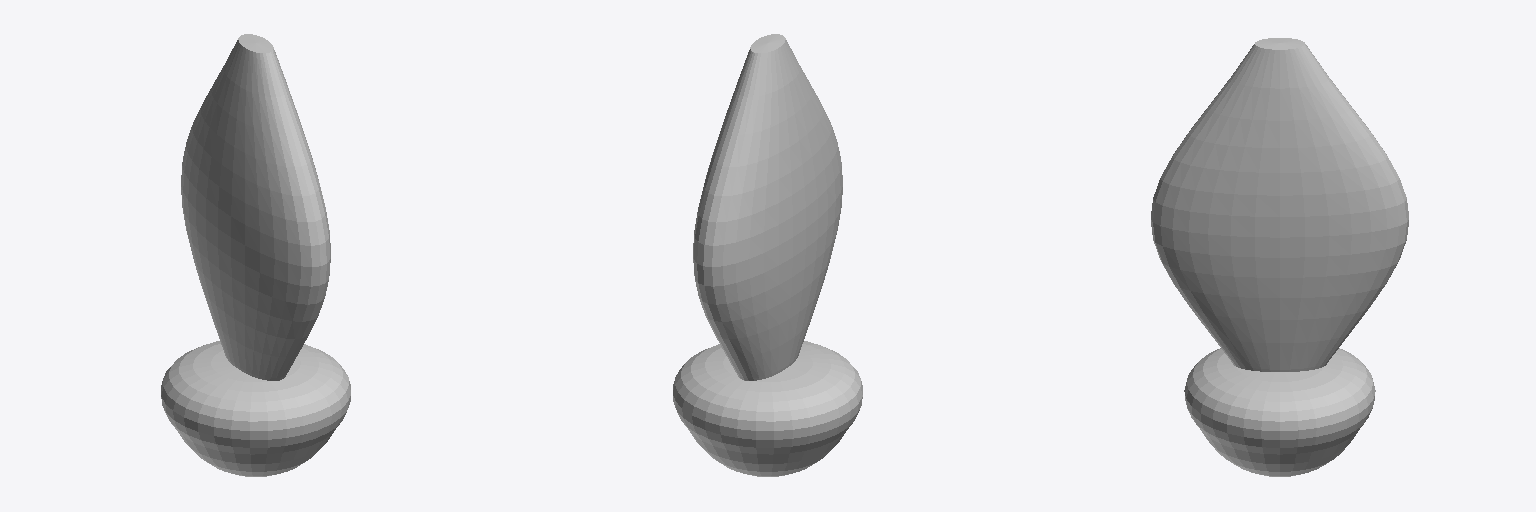
Rendered from Body.obj.
3 renders of one model, left to right at view 1: azimuth 30°, elevation 25°; view 2: azimuth 150°, elevation 25°; view 3: azimuth 270°, elevation 25°, orthographic.
Visible parts, largest first — view 1: Sphere.002_Sphere.007; view 2: Sphere.002_Sphere.007; view 3: Sphere.002_Sphere.007.
Part boxes in pixels (bbox=[...]): Sphere.002_Sphere.007: bbox=[161, 34, 350, 476]; Sphere.002_Sphere.007: bbox=[673, 34, 862, 476]; Sphere.002_Sphere.007: bbox=[1151, 38, 1408, 476].
Size of the model in its own units: 0.2057 by 0.5051 by 0.2783.